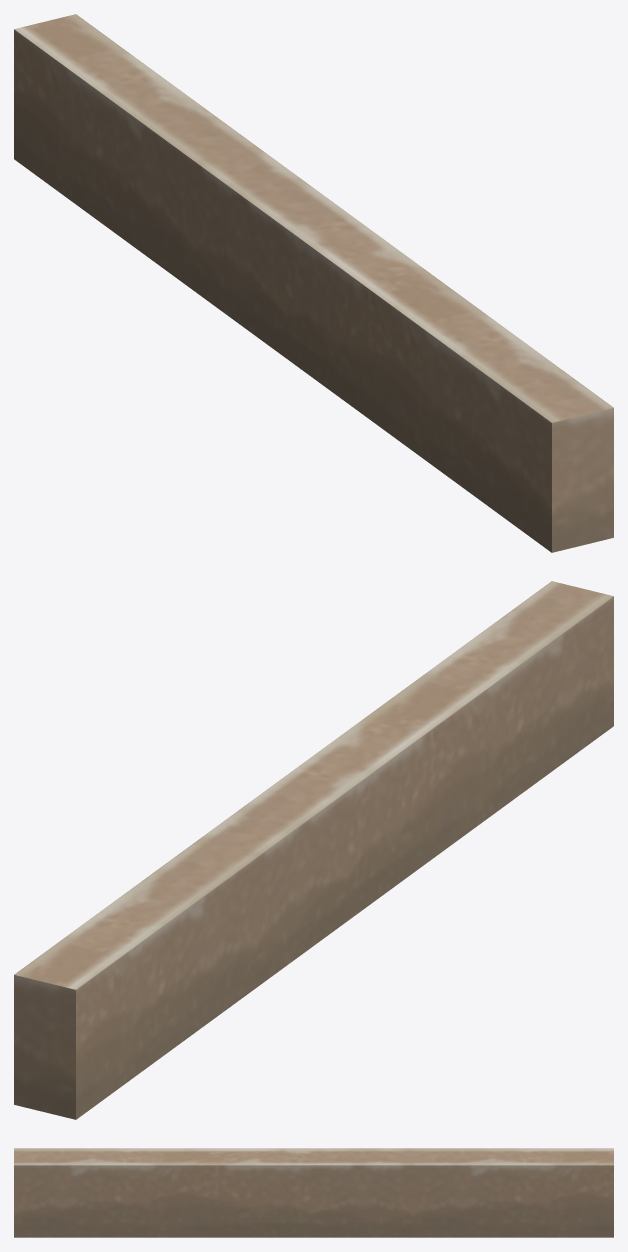
File: railingEdge_1.5m.fbx
The picture shows the model from 3 angles, top to bottom: view 1: azimuth 30°, elevation 25°; view 2: azimuth 150°, elevation 25°; view 3: azimuth 270°, elevation 25°; orthographic projection. The views are drawn at different scales.
Visible parts, largest first — view 1: railingEdge_1.5m; view 2: railingEdge_1.5m; view 3: railingEdge_1.5m.
Boxes of the visible parts, left/top/right/bottom form: railingEdge_1.5m: left=14, top=14, right=613, bottom=552; railingEdge_1.5m: left=14, top=581, right=613, bottom=1119; railingEdge_1.5m: left=14, top=1148, right=613, bottom=1237.
Size of the model in its own units: 10 by 20 by 150.
